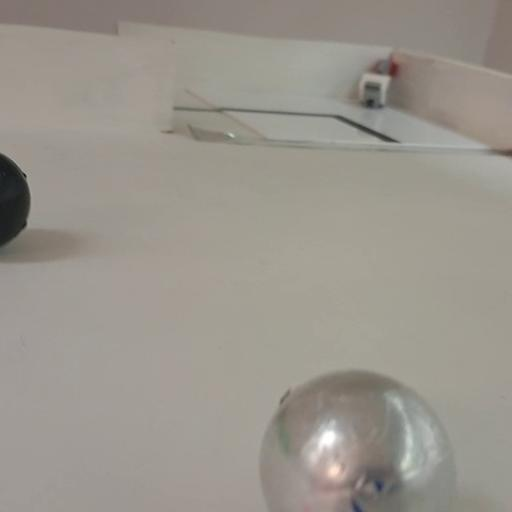alive: (260, 369, 459, 512)
dead: (0, 153, 33, 255)
